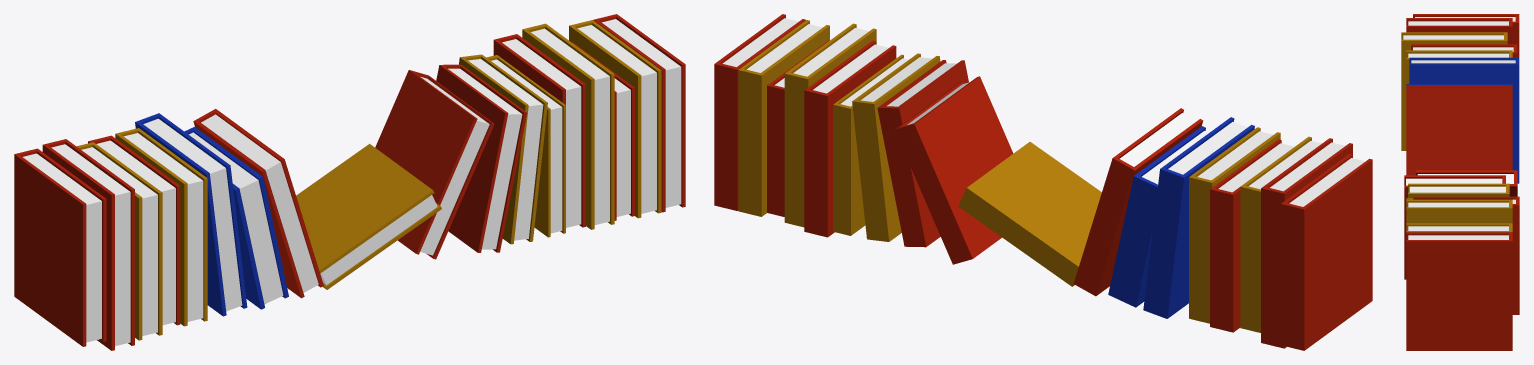
Rendered from bukuShelf1.obj.
3 views of the same model, side by side, from view 1: azimuth 30°, elevation 25°; view 2: azimuth 150°, elevation 25°; view 3: azimuth 270°, elevation 25° (orthographic). The views are drawn at different scales.
Parts seen in each view (by area): view 1: Book.001_Cube.022; view 2: Book.001_Cube.022; view 3: Book.001_Cube.022.
Boxes of the visible parts, x1,y1,x2,y2 form: Book.001_Cube.022: (14, 14, 685, 350); Book.001_Cube.022: (714, 14, 1372, 350); Book.001_Cube.022: (1401, 14, 1519, 350).
Size of the model in its own units: 2.32 by 0.5764 by 0.5133.
